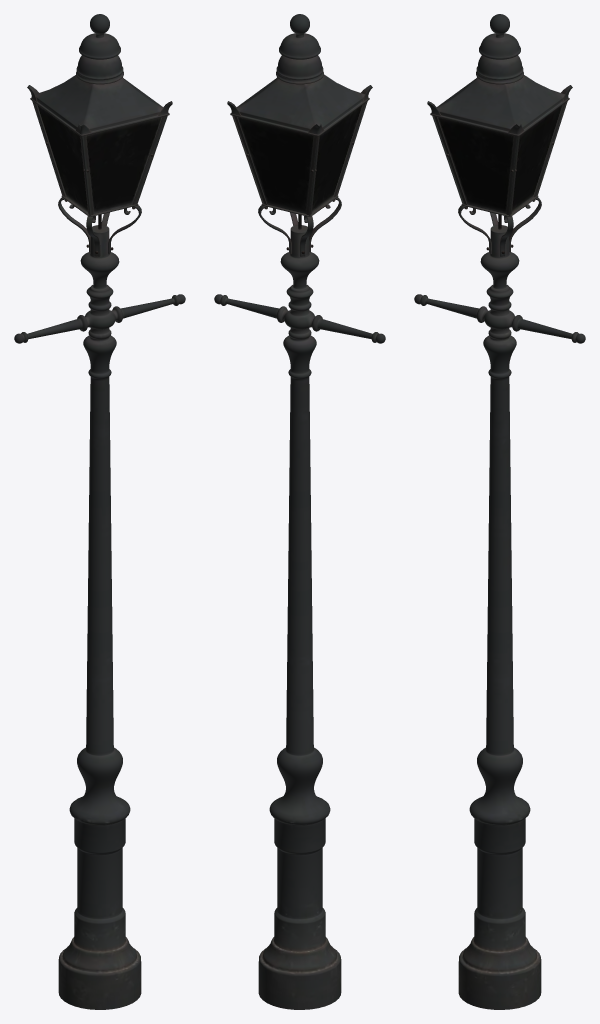
Rendered from street_lamp_01.glb.
The picture shows the model from 3 angles, left to right: view 1: azimuth 30°, elevation 25°; view 2: azimuth 150°, elevation 25°; view 3: azimuth 330°, elevation 25°; orthographic projection.
Parts seen in each view (by area): view 1: street_lamp_01; view 2: street_lamp_01; view 3: street_lamp_01.
Boxes of the visible parts, x1,y1,x2,y2 form: street_lamp_01: (14,14,185,1009); street_lamp_01: (214,14,385,1009); street_lamp_01: (414,14,585,1009).
Bounding box in the file's own units: 0.7045 × 3.87 × 0.3865.
Materials: 2 (2 with a texture image).
